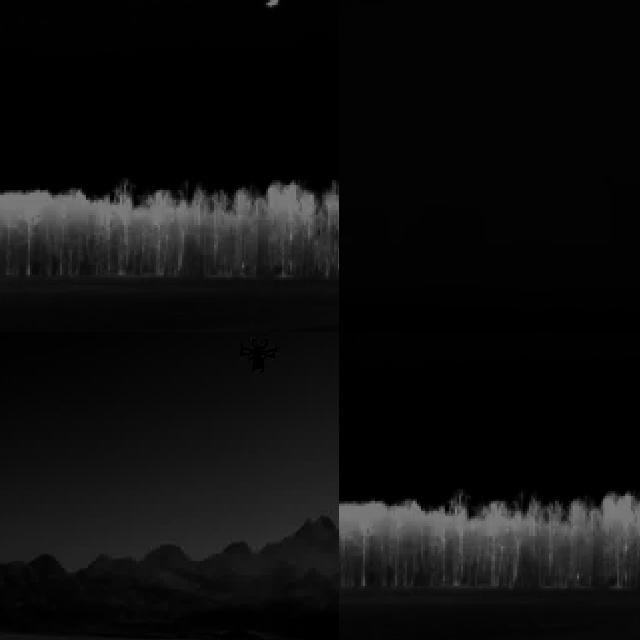1: (257, 0, 293, 20)
drone: (237, 332, 280, 384)
